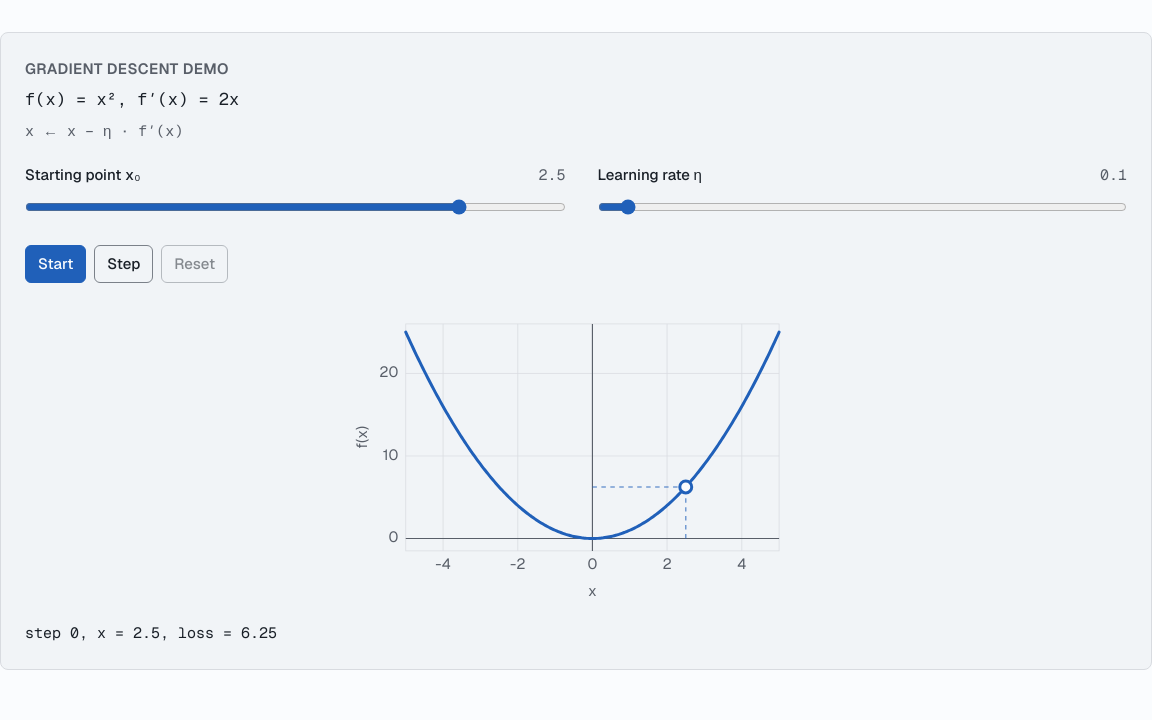
GradientDescentDemo › starts a new run when either parameter changes
Click the button "Step" at (124, 264), box 94,244 -> 153,282
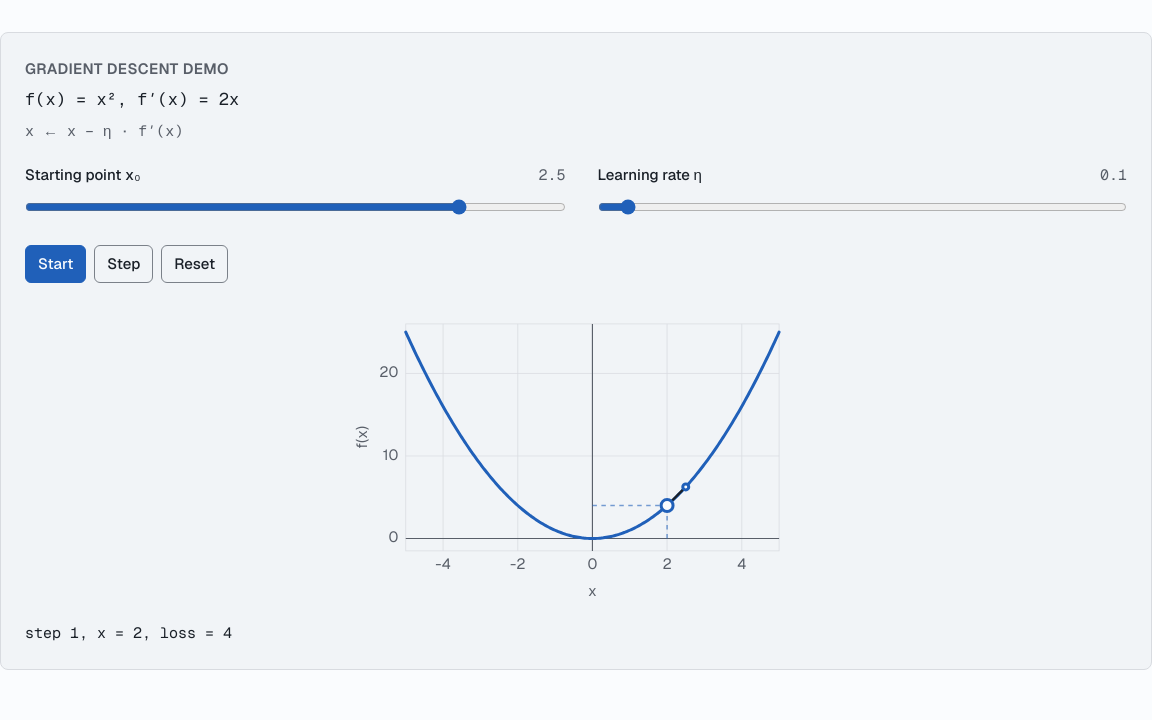
Set the slider labelled "Learning rate η" to "0.5" at (806, 207), box 598,199 -> 1127,215
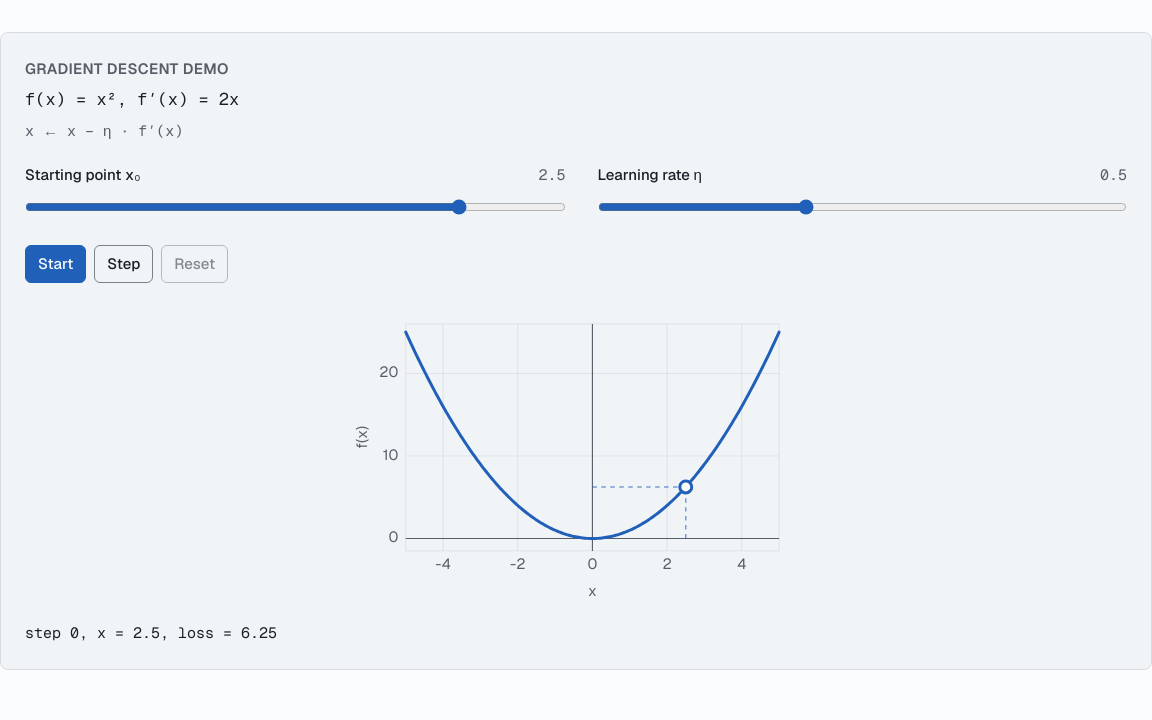
Click the button "Step" at (124, 264), box 94,244 -> 153,282
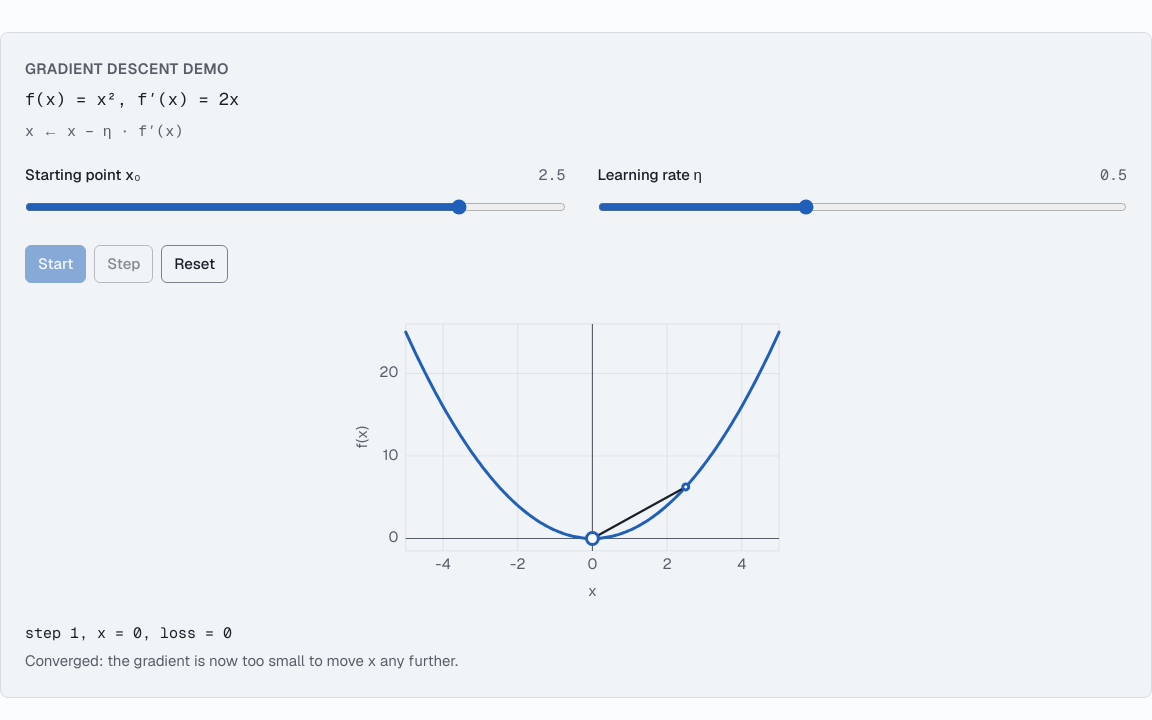
Result: the text "Converged" is shown at 25,651 -> 458,670
